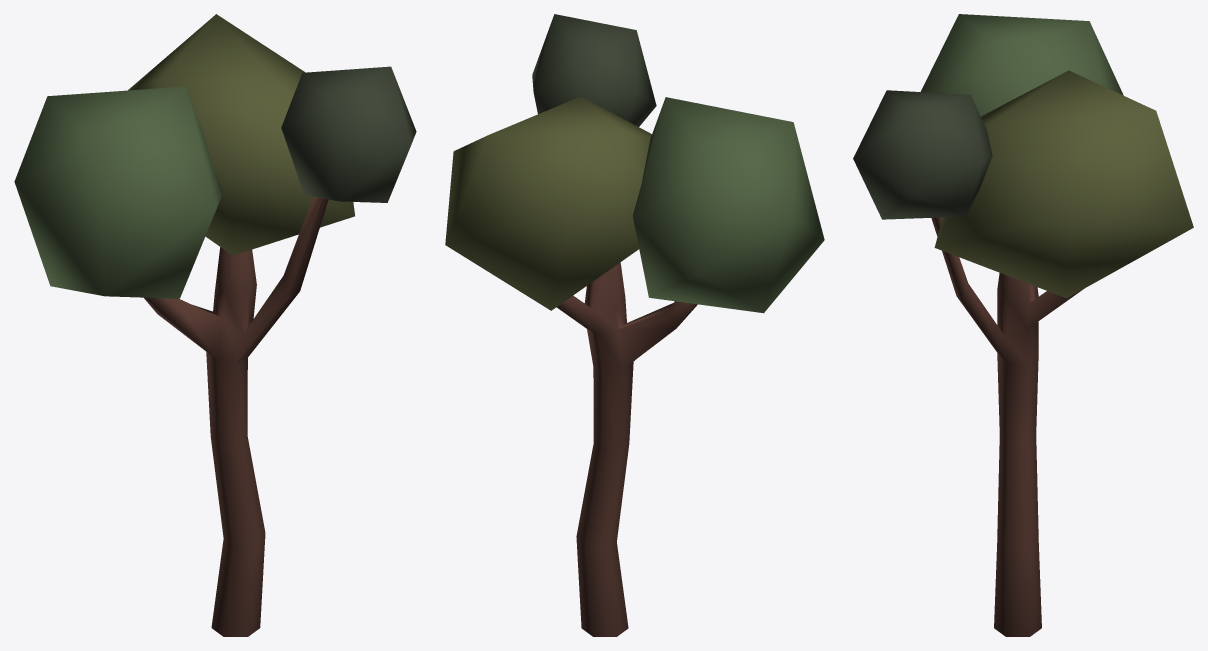
Rendered from Tree1.fbx.
3 views of the same model, side by side, from view 1: azimuth 30°, elevation 25°; view 2: azimuth 150°, elevation 25°; view 3: azimuth 270°, elevation 25° (orthographic). The views are drawn at different scales.
Visible parts, largest first — view 1: Tree 3; view 2: Tree 3; view 3: Tree 3.
Part boxes in pixels (box(x1,y1,x2,y2)): Tree 3: box(14, 14, 416, 636); Tree 3: box(445, 14, 824, 636); Tree 3: box(853, 14, 1193, 636).
Bounding box in the file's own units: 1.62 × 2.63 × 1.44.
